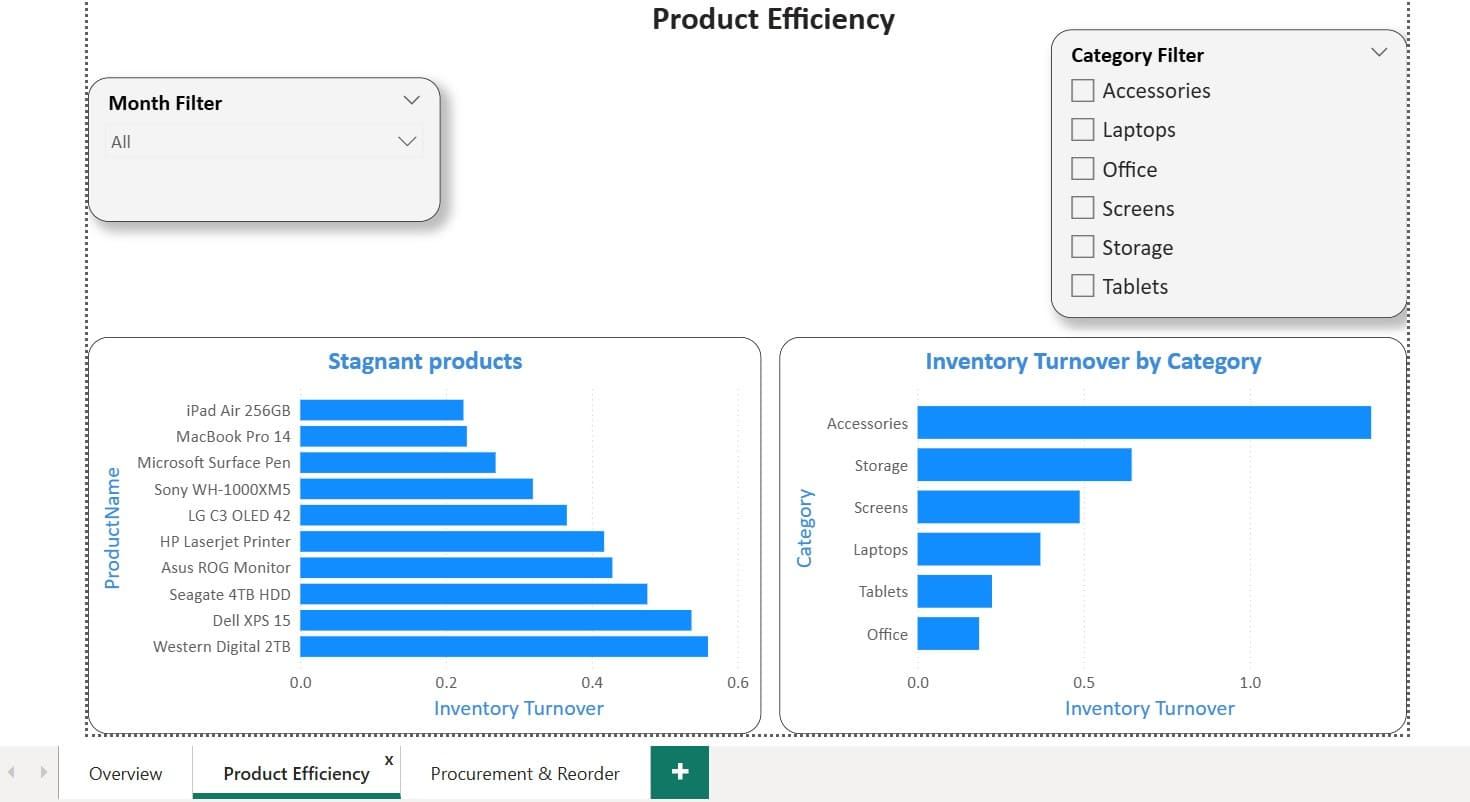

Layout of this report page (visuals, bound fields, positions):
{"tool":"powerbi","page":{"name":"Product Efficiency","canvas":[1280,720],"ordinal":1},"visuals":[{"type":"clusteredBarChart","fields":{"Category":["Products.Category"],"Y":["Fact_Inventory_Movements.Inventory Turnover"]},"box":[671.7,335,608.3,385],"z":0},{"type":"clusteredBarChart","title":"Stagnant products","fields":{"Category":["Products.ProductName"],"Y":["Fact_Inventory_Movements.Inventory Turnover"]},"box":[0,335,653.3,385],"z":1},{"type":"slicer","fields":{"Values":["Products.Category"]},"box":[934,36,346,280],"z":2},{"type":"slicer","fields":{"Values":["DimDate.Month"]},"box":[0,83.3,341.7,140],"z":3},{"type":"textbox","box":[432,0,368,60],"z":4}]}

Visuals, with their boxes on the page's 1280x720 design canvas (x1, y1, x2, y2). These are canvas units, not pixel positions in the 1470x802 screenshot, which may show the page scaled, cropped or inside an application window:
clusteredBarChart - Products.Category x Fact_Inventory_Movements.Inventory Turnover: Rect(672, 335, 1280, 720)
"Stagnant products" clusteredBarChart: Rect(0, 335, 653, 720)
slicer - Products.Category: Rect(934, 36, 1280, 316)
slicer - DimDate.Month: Rect(0, 83, 342, 223)
textbox: Rect(432, 0, 800, 60)
